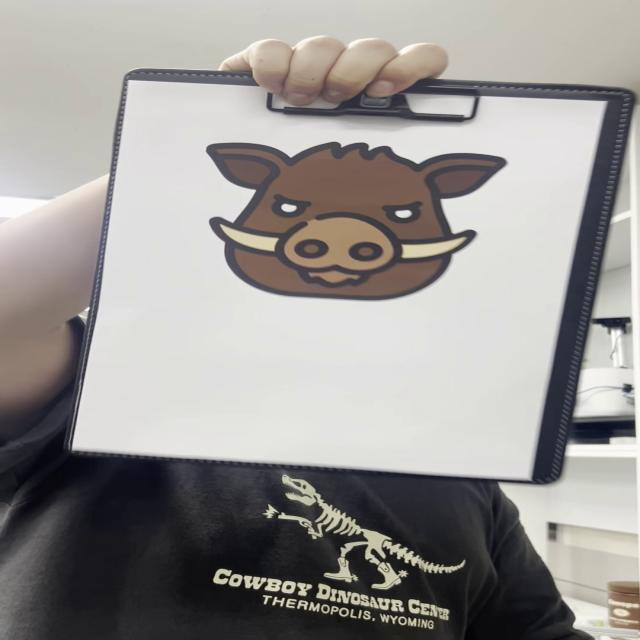animal: (204, 143, 509, 301)
